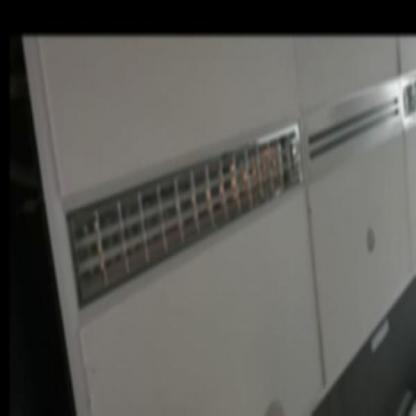light_off: (54, 103, 312, 320)
